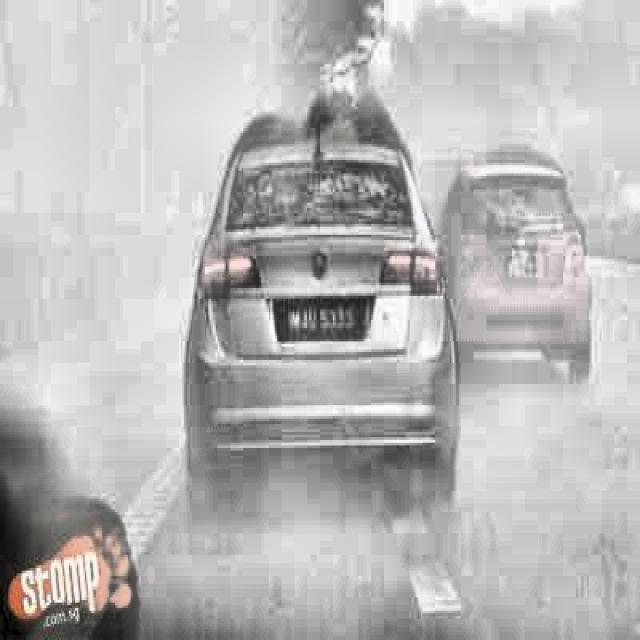license_plate: (281, 298, 363, 345)
